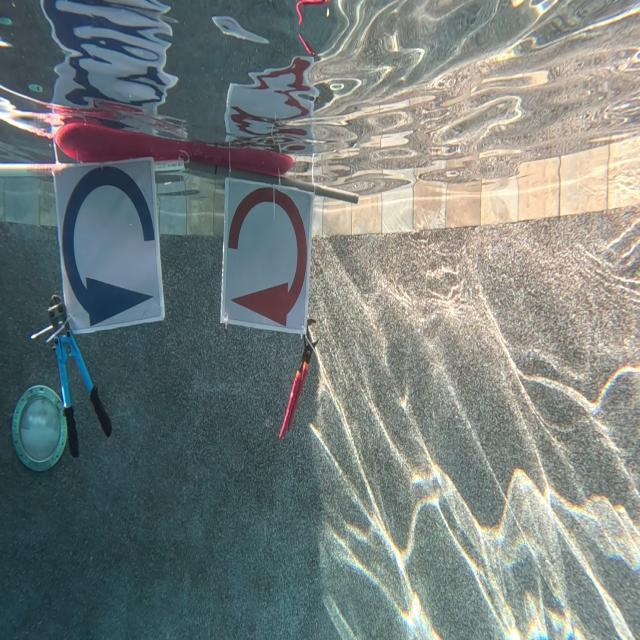blue_side: (54, 162, 162, 320)
red_side: (219, 177, 307, 329)
